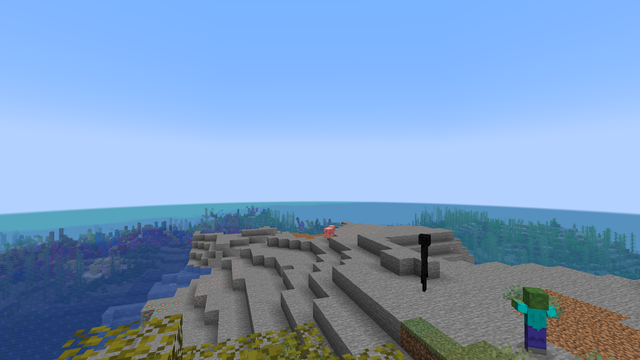cochons: (323, 226, 334, 237)
endermens: (415, 231, 432, 292)
zombies: (519, 287, 551, 359)
